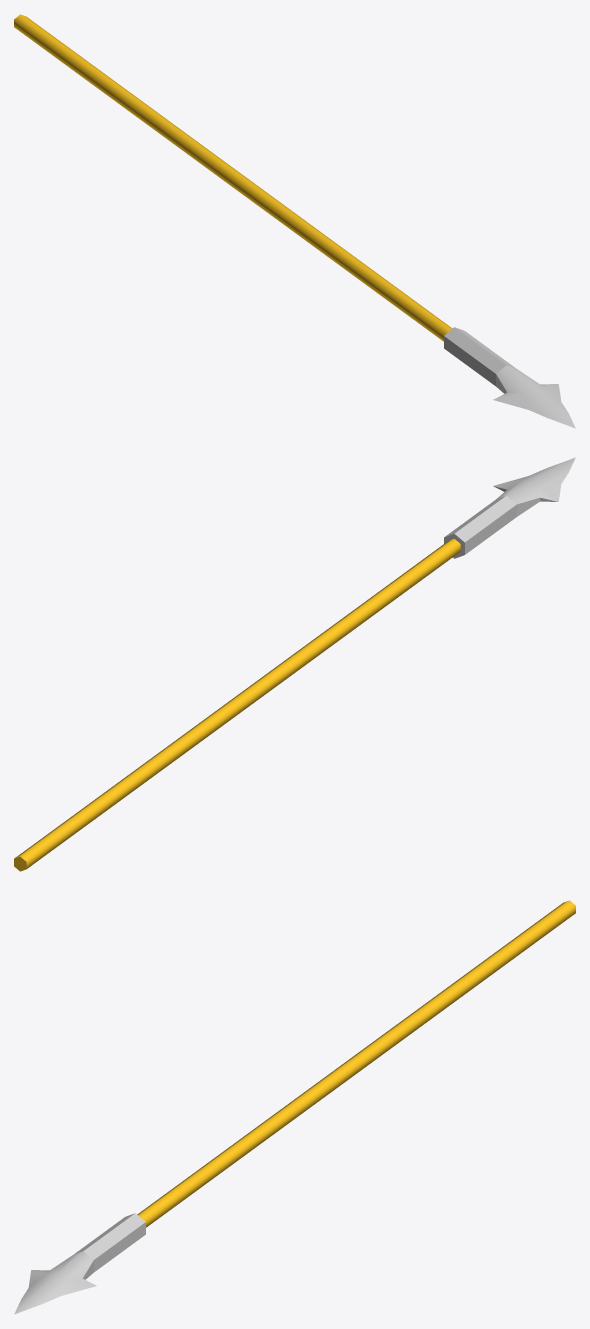
File: Guisarme.FBX
The picture shows the model from 3 angles, top to bottom: view 1: azimuth 30°, elevation 25°; view 2: azimuth 150°, elevation 25°; view 3: azimuth 330°, elevation 25°; orthographic projection.
Parts seen in each view (by area): view 1: weapon_Guisarme; view 2: weapon_Guisarme; view 3: weapon_Guisarme.
Part boxes in pixels (x1,y1,x2,y2): weapon_Guisarme: (14,14,575,428); weapon_Guisarme: (14,457,575,871); weapon_Guisarme: (14,900,575,1314).
Bounding box in the file's own units: 110 × 40 × 1600.
